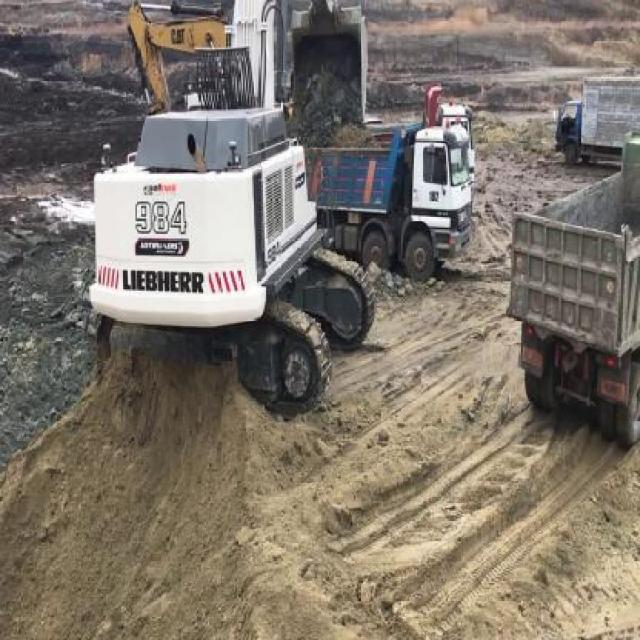dump truck: (504, 145, 638, 444), (306, 112, 474, 281), (553, 73, 639, 167)
excavator: (88, 0, 378, 418)
